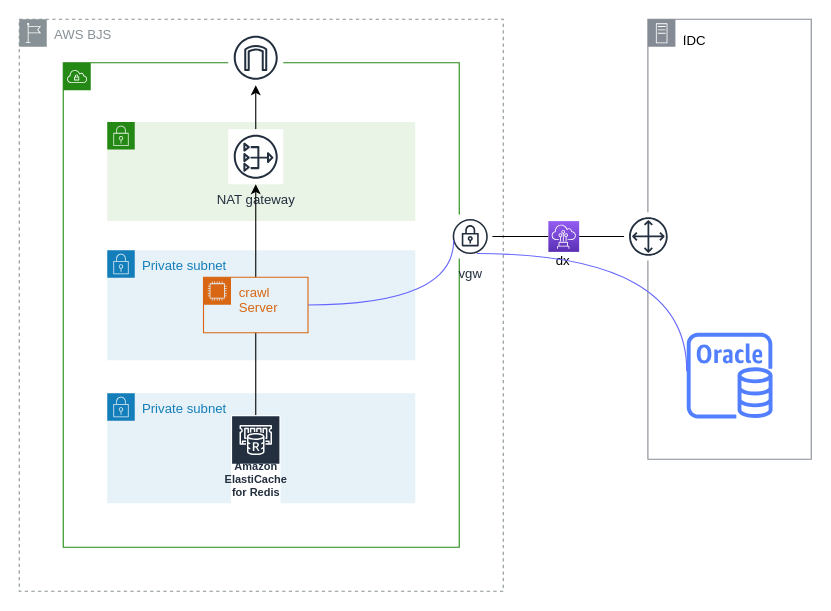
The diagram is 831 pixels wide and 611 high, and some of its shapes have lost their labels. The box of each missing label's shape, as (x1, y1, x2, y2) in pixels:
cgw: (623, 211, 673, 261)
Internet gateway: (227, 29, 283, 85)
Public subnet: (106, 121, 415, 221)
VPC-2 10.20.40.0/21: (62, 62, 459, 547)
